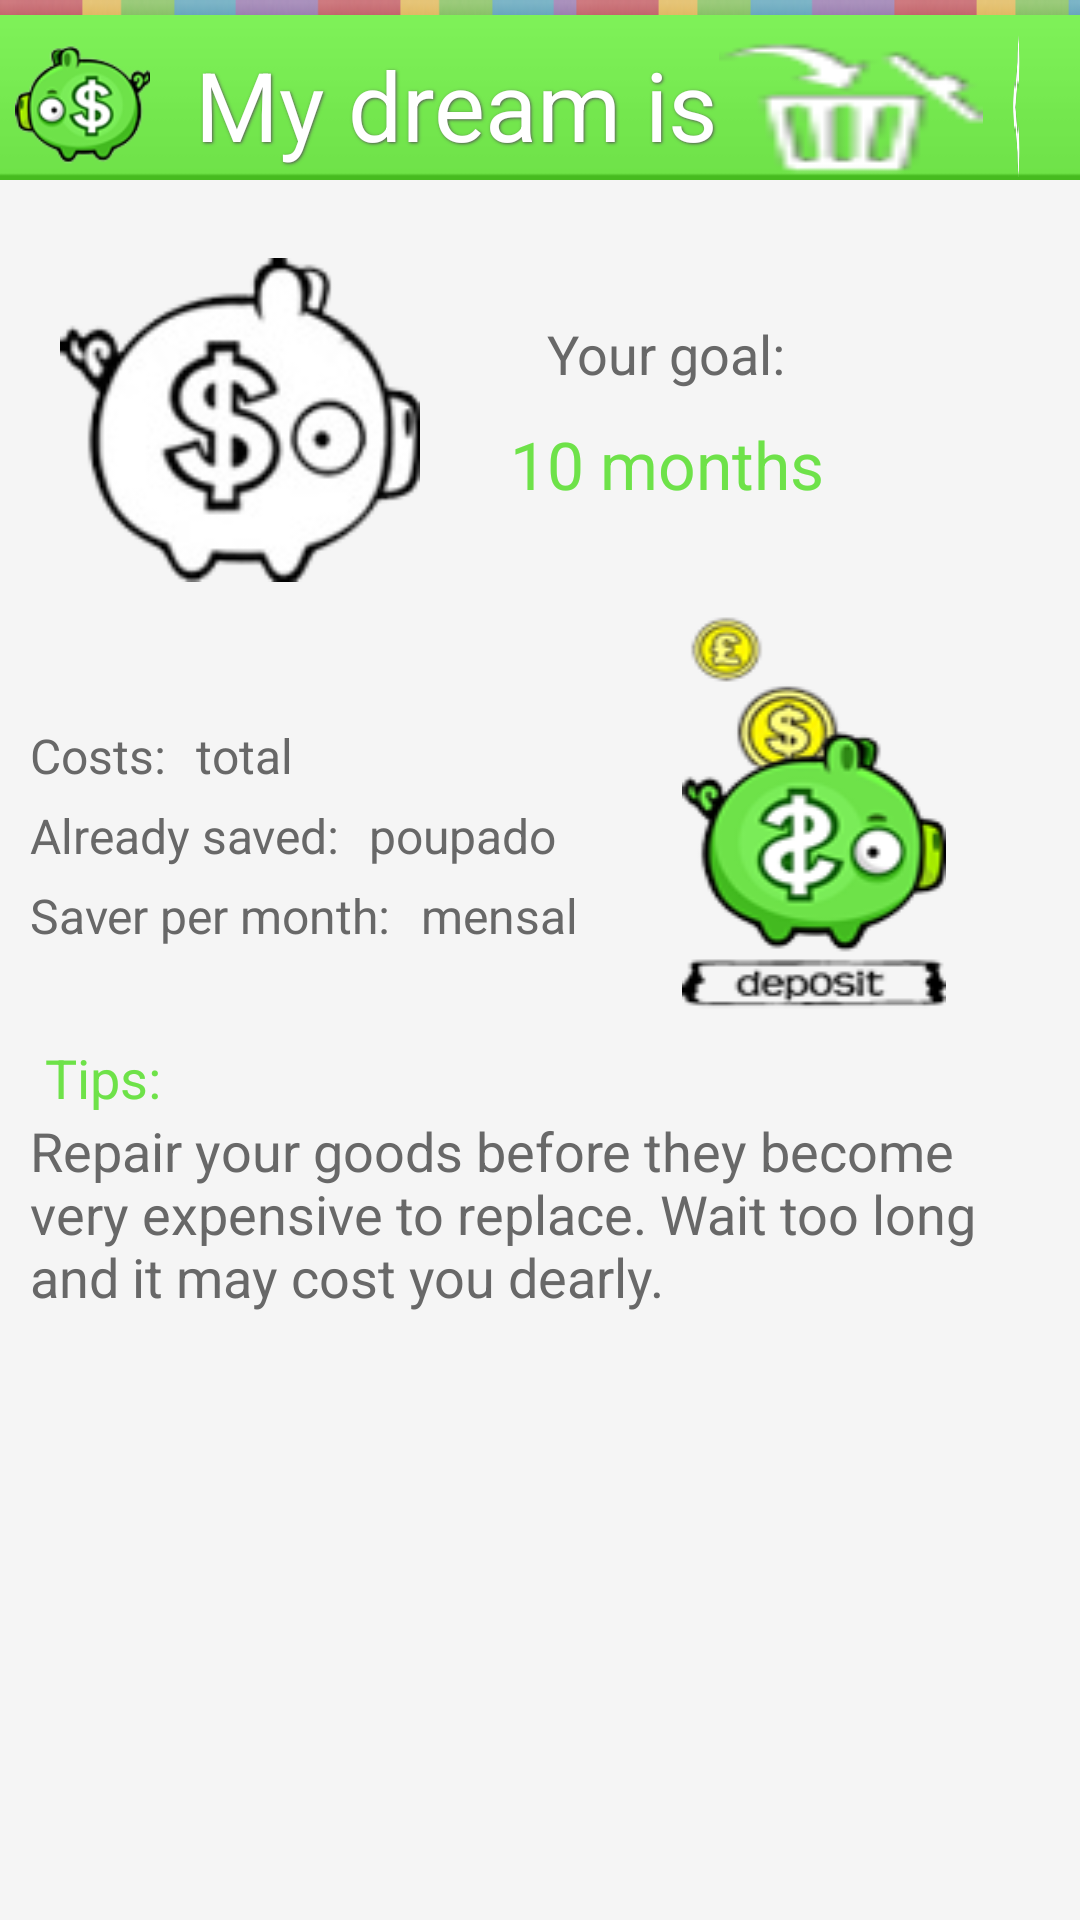

Where to tap for icons on this 1080px x 1920px app screen, as point (x, y):
poupanca: point (240, 420)
